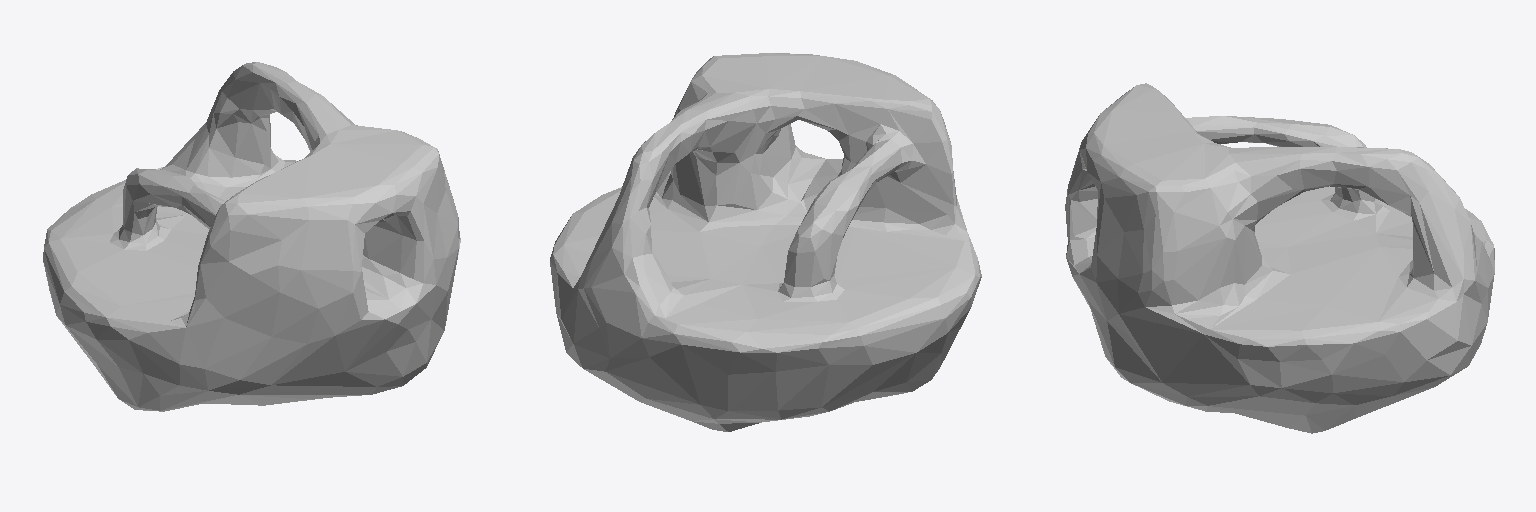
Rendered from island4Lo.obj.
3 renders of one model, left to right at view 1: azimuth 30°, elevation 25°; view 2: azimuth 150°, elevation 25°; view 3: azimuth 270°, elevation 25°, orthographic.
Parts seen in each view (by area): view 1: F3:GeoDome1_F3:GeoDome1_auv; view 2: F3:GeoDome1_F3:GeoDome1_auv; view 3: F3:GeoDome1_F3:GeoDome1_auv.
Part boxes in pixels (bbox=[...]): F3:GeoDome1_F3:GeoDome1_auv: bbox=[43, 62, 460, 411]; F3:GeoDome1_F3:GeoDome1_auv: bbox=[550, 53, 981, 431]; F3:GeoDome1_F3:GeoDome1_auv: bbox=[1065, 83, 1494, 433].
Size of the model in its own units: 4.03 by 2.84 by 4.01.